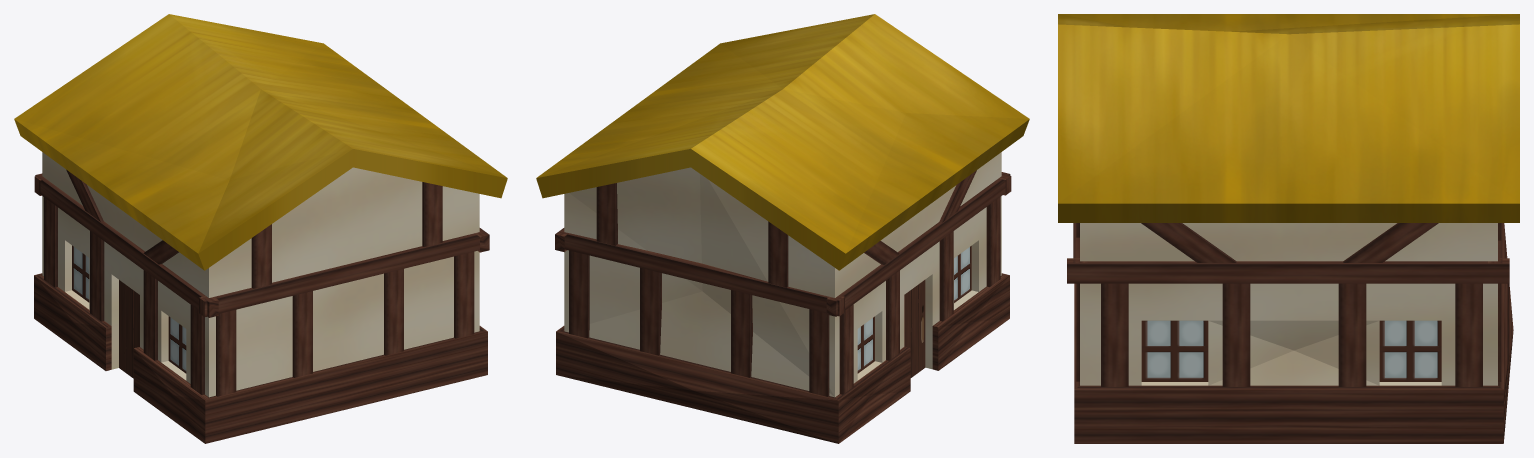
Rendered from co_Building04.fbx.
The picture shows the model from 3 angles, left to right: view 1: azimuth 30°, elevation 25°; view 2: azimuth 150°, elevation 25°; view 3: azimuth 270°, elevation 25°; orthographic projection. The views are drawn at different scales.
Visible parts, largest first — view 1: Building04; view 2: Building04; view 3: Building04.
Part boxes in pixels (box(x1,y1,x2,y2)): Building04: box(14, 14, 507, 443); Building04: box(536, 14, 1029, 443); Building04: box(1058, 14, 1519, 443).
Size of the model in its own units: 2886 by 2364 by 2973.
